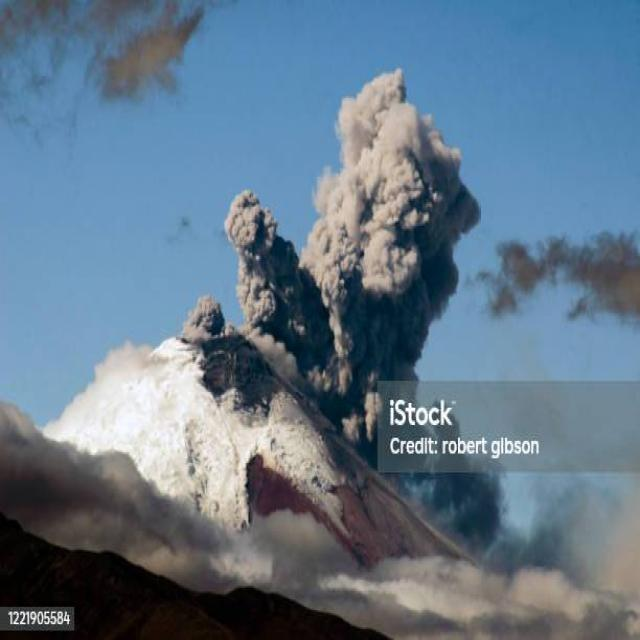Smoke: (224, 63, 484, 365)
